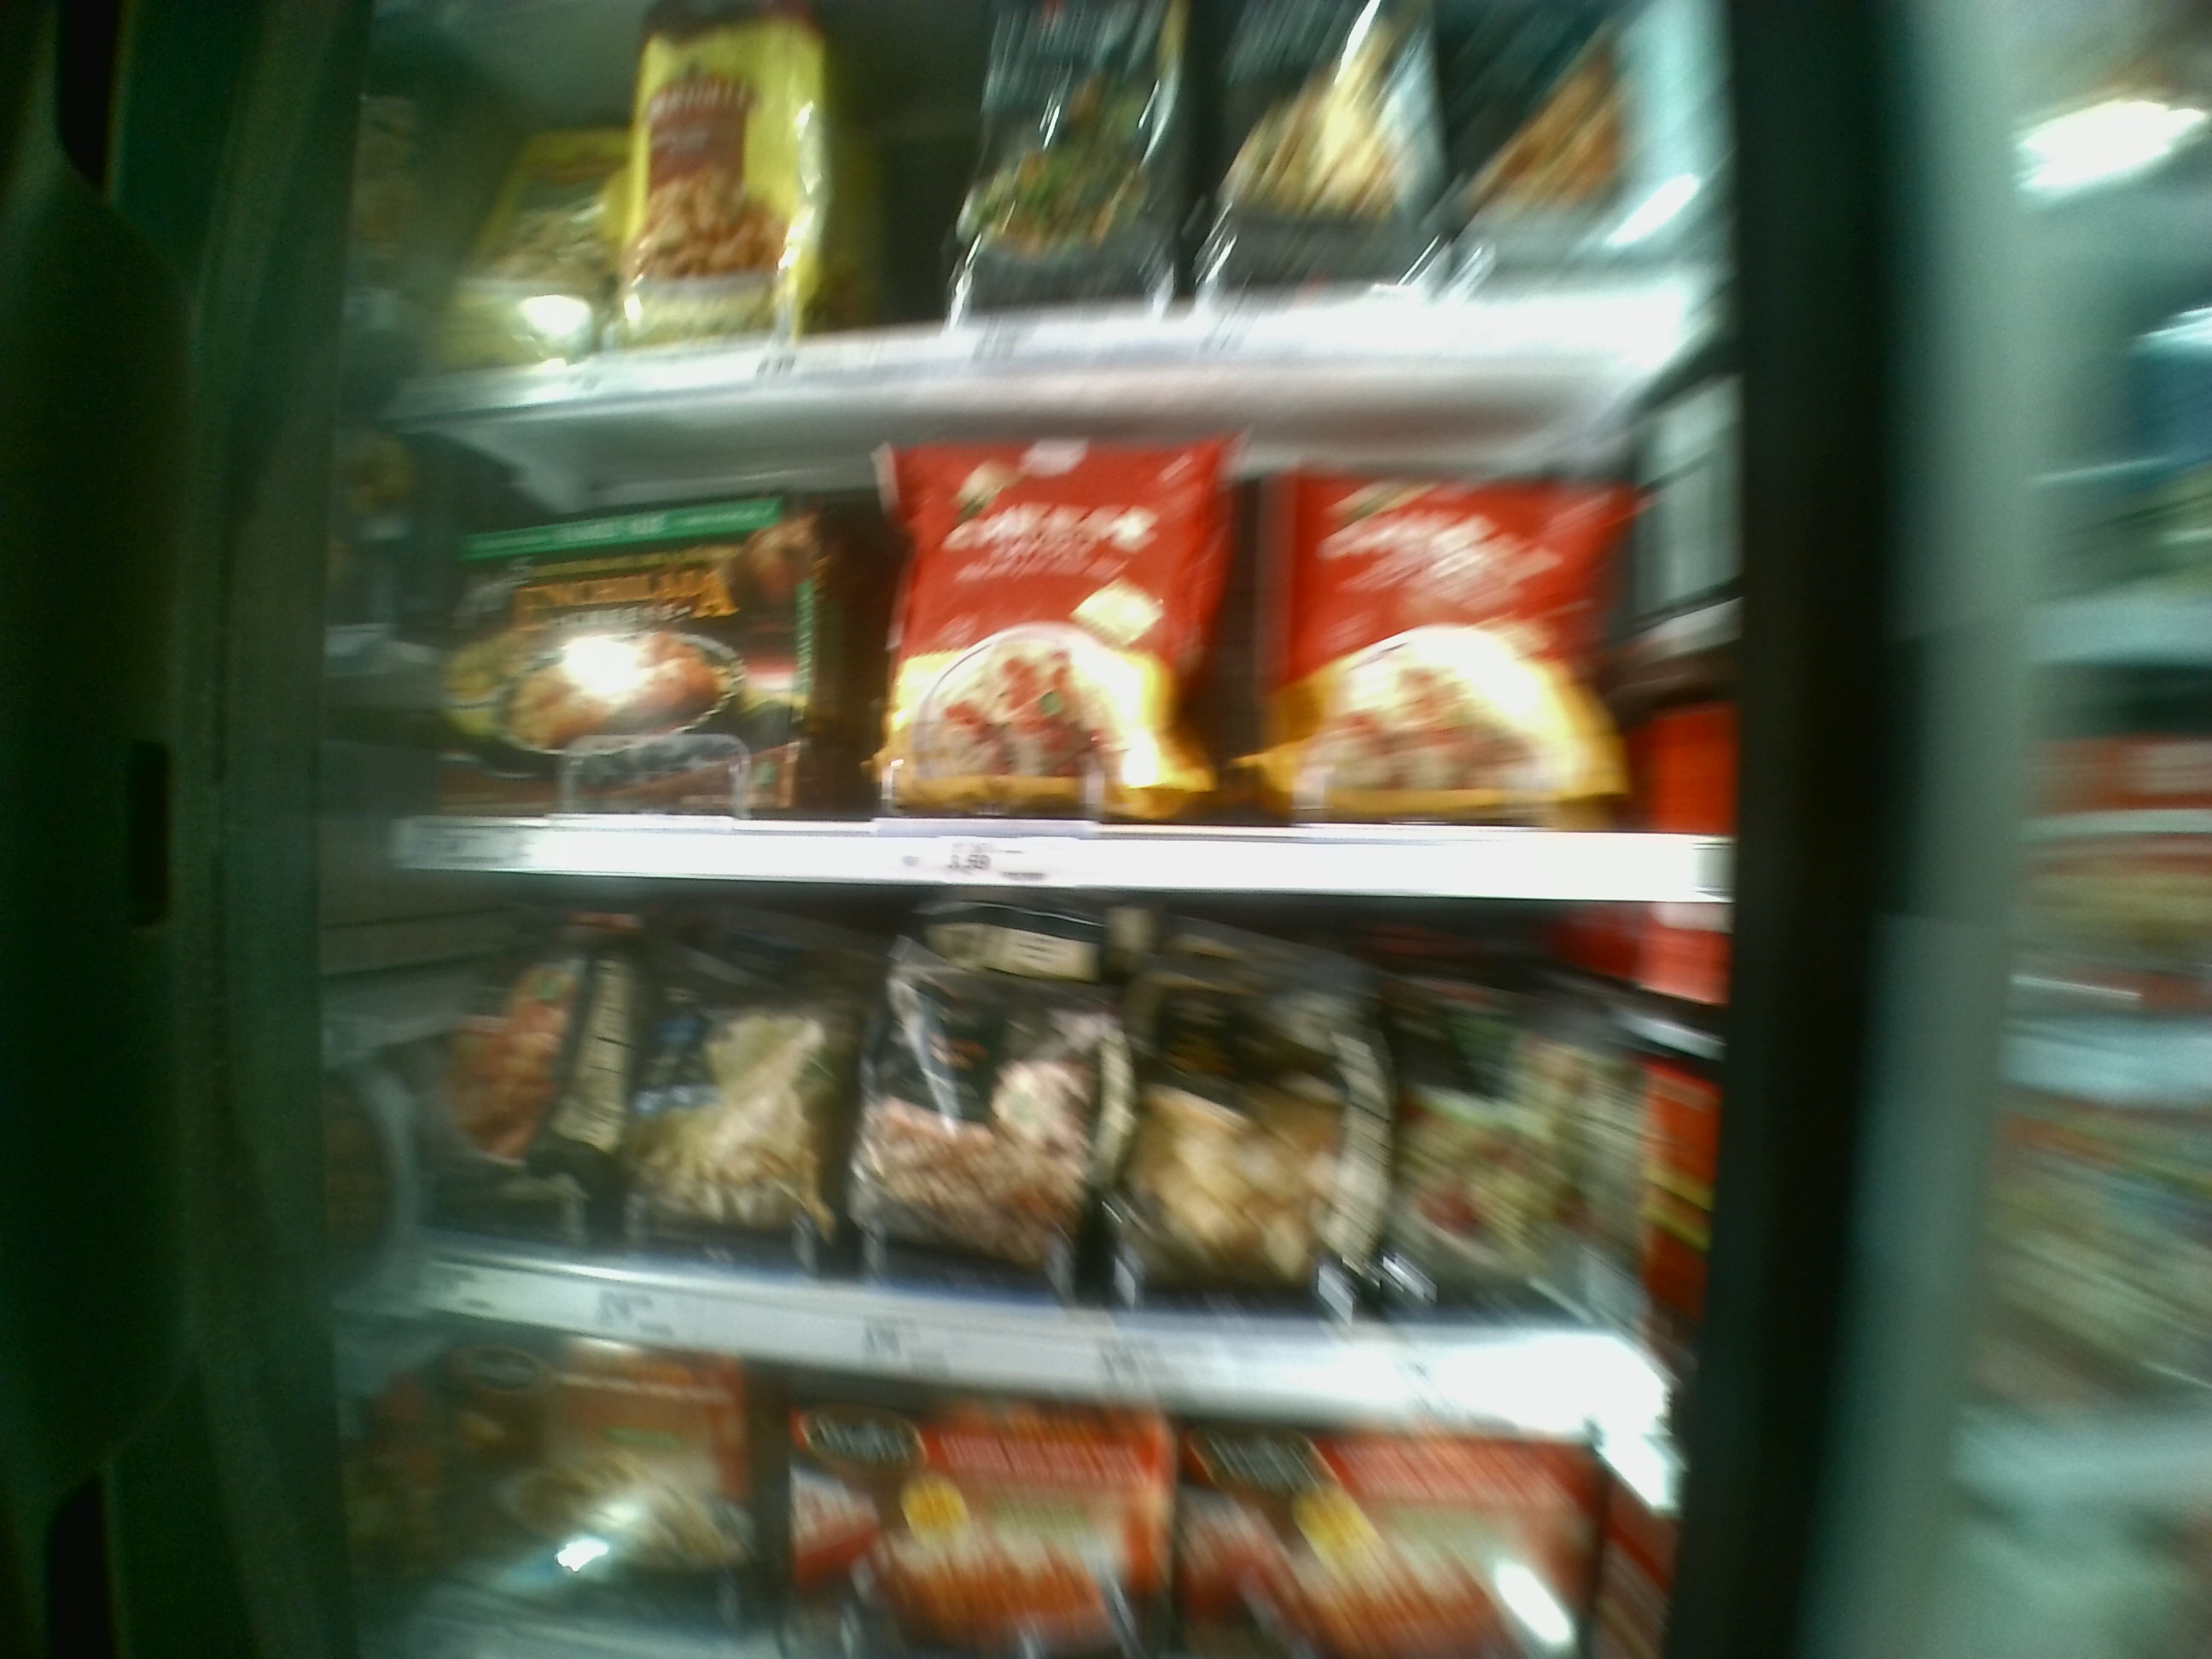shelf: (383, 873, 1714, 1441), (380, 350, 1731, 899)
